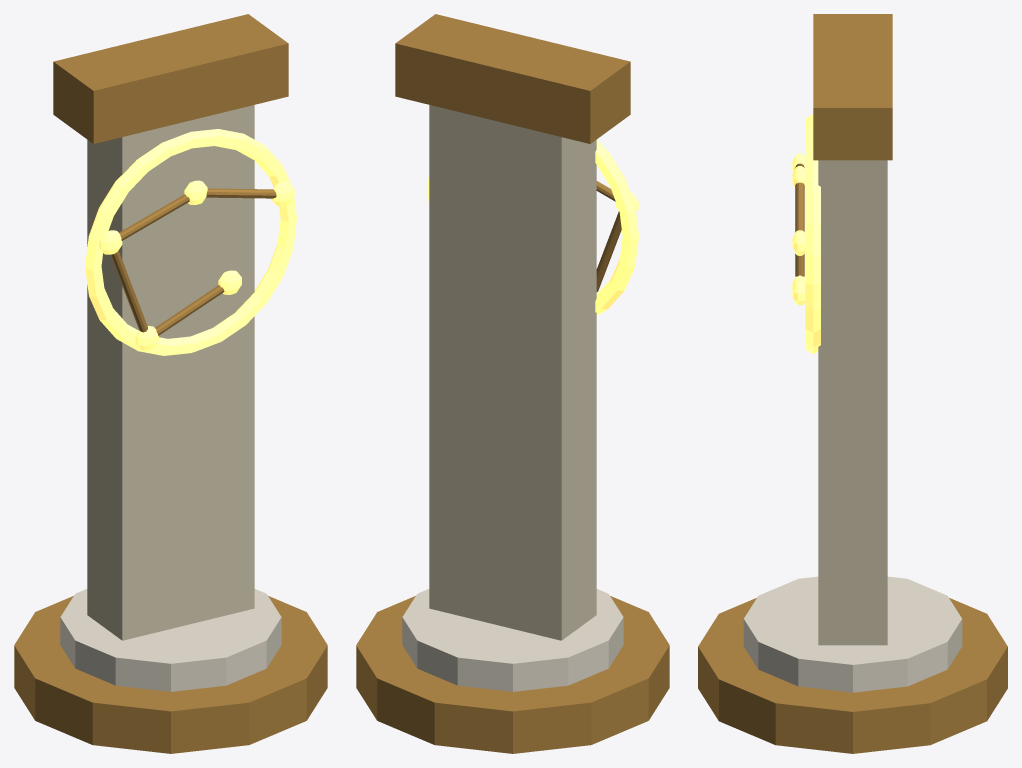
The model's file is runtime.glb.
3 views of the same model, side by side, from view 1: azimuth 30°, elevation 25°; view 2: azimuth 150°, elevation 25°; view 3: azimuth 270°, elevation 25° (orthographic).
Visible parts, largest first — view 1: aetherion-zodiac-stele-v05_shaft_nocol, aetherion-zodiac-stele-v05_foot_nocol, aetherion-zodiac-stele-v05_shoulder_nocol, aetherion-zodiac-stele-v05_plinth_nocol, aetherion-zodiac-stele-v05_primary_orbit_nocol, aetherion-zodiac-stele-v05_constellation_link_02_nocol, aetherion-zodiac-stele-v05_constellation_link_03_nocol, aetherion-zodiac-stele-v05_constellation_link_01_nocol, aetherion-zodiac-stele-v05_constellation_link_00_nocol; view 2: aetherion-zodiac-stele-v05_shaft_nocol, aetherion-zodiac-stele-v05_foot_nocol, aetherion-zodiac-stele-v05_shoulder_nocol, aetherion-zodiac-stele-v05_plinth_nocol, aetherion-zodiac-stele-v05_primary_orbit_nocol, aetherion-zodiac-stele-v05_constellation_link_02_nocol; view 3: aetherion-zodiac-stele-v05_shaft_nocol, aetherion-zodiac-stele-v05_foot_nocol, aetherion-zodiac-stele-v05_plinth_nocol, aetherion-zodiac-stele-v05_shoulder_nocol, aetherion-zodiac-stele-v05_primary_orbit_nocol.
Boxes of the visible parts, x1=… form: aetherion-zodiac-stele-v05_shaft_nocol: x1=87, y1=105, x2=254, y2=640; aetherion-zodiac-stele-v05_foot_nocol: x1=14, y1=596, x2=327, y2=753; aetherion-zodiac-stele-v05_shoulder_nocol: x1=53, y1=14, x2=288, y2=143; aetherion-zodiac-stele-v05_plinth_nocol: x1=60, y1=589, x2=281, y2=691; aetherion-zodiac-stele-v05_primary_orbit_nocol: x1=85, y1=129, x2=296, y2=355; aetherion-zodiac-stele-v05_constellation_link_02_nocol: x1=110, y1=251, x2=147, y2=332; aetherion-zodiac-stele-v05_constellation_link_03_nocol: x1=155, y1=285, x2=224, y2=335; aetherion-zodiac-stele-v05_constellation_link_01_nocol: x1=119, y1=194, x2=189, y2=240; aetherion-zodiac-stele-v05_constellation_link_00_nocol: x1=206, y1=188, x2=276, y2=198; aetherion-zodiac-stele-v05_shaft_nocol: x1=429, y1=105, x2=596, y2=640; aetherion-zodiac-stele-v05_foot_nocol: x1=356, y1=596, x2=669, y2=753; aetherion-zodiac-stele-v05_shoulder_nocol: x1=395, y1=14, x2=630, y2=143; aetherion-zodiac-stele-v05_plinth_nocol: x1=402, y1=589, x2=623, y2=691; aetherion-zodiac-stele-v05_primary_orbit_nocol: x1=427, y1=140, x2=638, y2=315; aetherion-zodiac-stele-v05_constellation_link_02_nocol: x1=596, y1=211, x2=621, y2=291; aetherion-zodiac-stele-v05_shaft_nocol: x1=818, y1=160, x2=887, y2=645; aetherion-zodiac-stele-v05_foot_nocol: x1=698, y1=598, x2=1007, y2=753; aetherion-zodiac-stele-v05_plinth_nocol: x1=743, y1=576, x2=962, y2=692; aetherion-zodiac-stele-v05_shoulder_nocol: x1=813, y1=14, x2=892, y2=160; aetherion-zodiac-stele-v05_primary_orbit_nocol: x1=805, y1=114, x2=820, y2=354.
Bounding box in the file's own units: 3.74 × 8.37 × 3.74.
